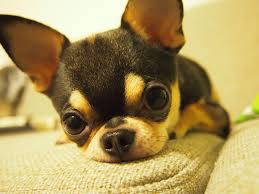chihuahua: (1, 1, 237, 161)
